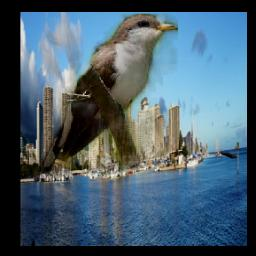Cuckoo: (38, 15, 179, 175)
